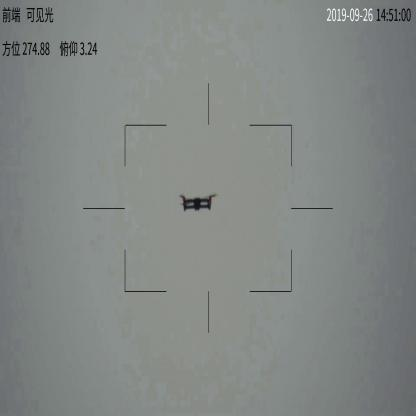uav: (174, 188, 218, 211)
